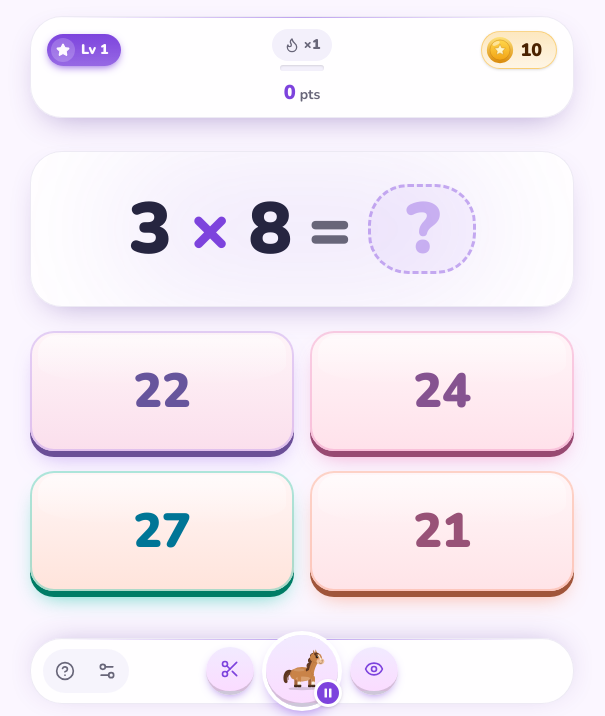
Test: GameScreen › awards points for a correct answer
Click the button "24" at (442, 391), box [310,331,574,451]
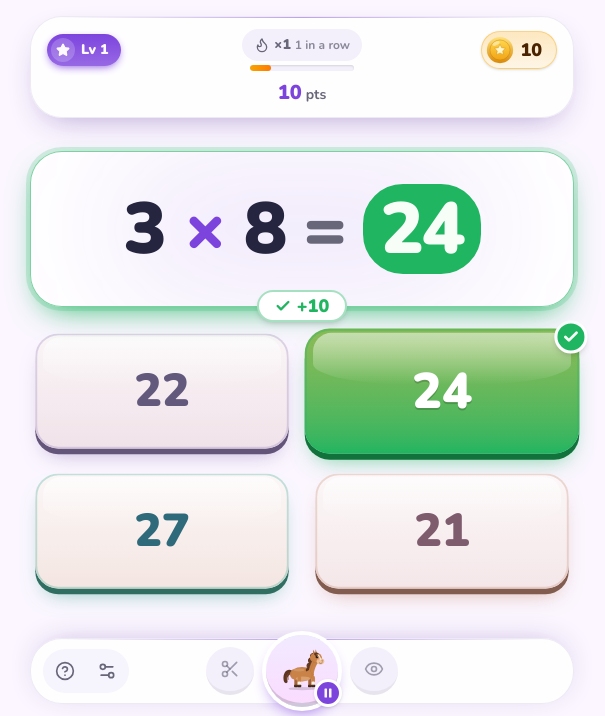
Now the text "+10" is shown, box [297,292,329,320]
